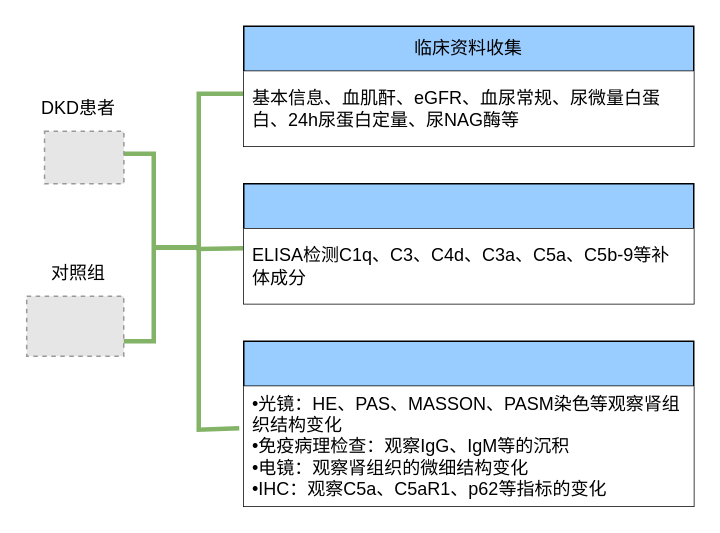
This 720x533 diagram has some shape labels left out. Grey dashed boxes stand in for pictures. The box of each missing label's shape, as (x1, y1, x2, y2) in pixels:
外周血补体活化水平: (242, 182, 694, 304)
肾脏病理: (242, 340, 694, 506)
